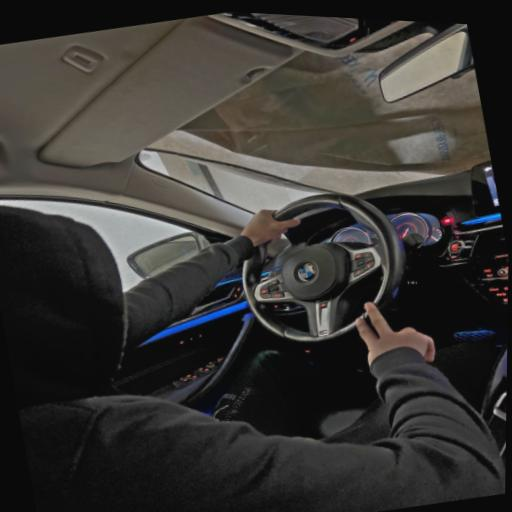Hands-on-the-Wheel: (316, 268, 464, 390), (183, 162, 333, 275)
